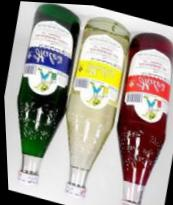glass: (39, 5, 148, 204), (88, 33, 172, 204), (8, 1, 78, 183)
